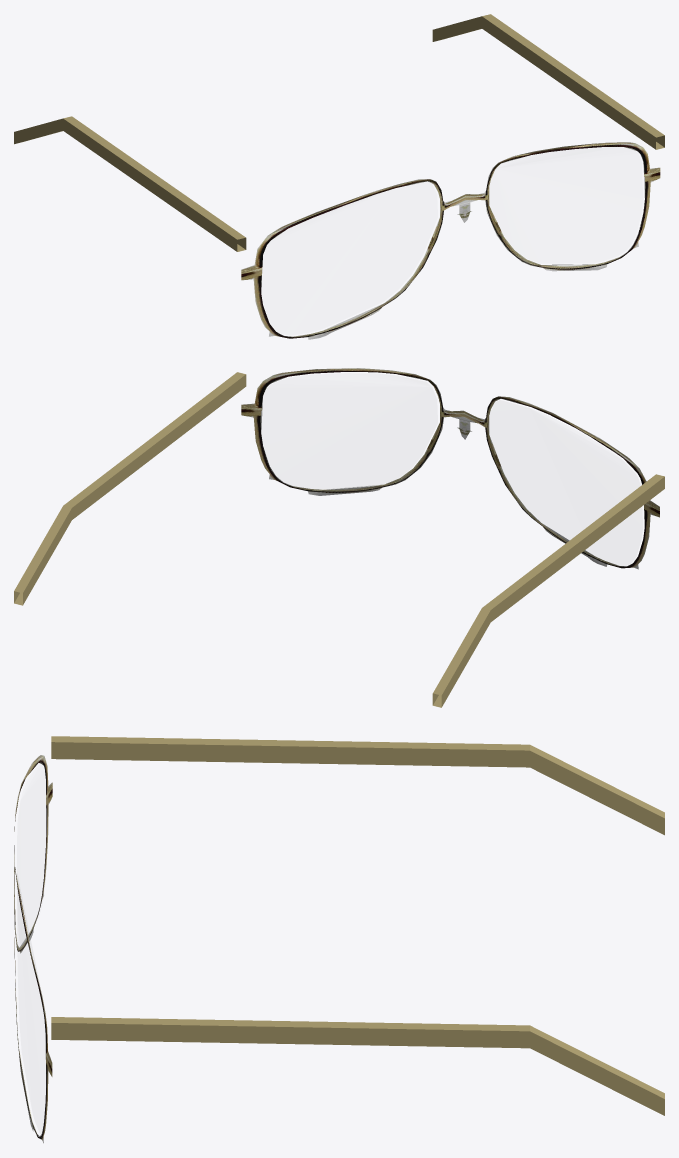
Rendered from gothamstyle-stainless-37_brown-gold.glb.
3 views of the same model, one above another, from view 1: azimuth 30°, elevation 25°; view 2: azimuth 150°, elevation 25°; view 3: azimuth 270°, elevation 25° (orthographic). The views are drawn at different scales.
Parts seen in each view (by area): view 1: frame_front, temple_viewer_left, temple_viewer_right; view 2: frame_front, temple_viewer_left, temple_viewer_right; view 3: temple_viewer_left, temple_viewer_right, frame_front.
Boxes of the visible parts, x1,y1,x2,y2 form: frame_front: [241, 142, 660, 339]; temple_viewer_left: [14, 116, 246, 251]; temple_viewer_right: [432, 14, 664, 149]; frame_front: [241, 368, 659, 569]; temple_viewer_left: [432, 474, 664, 707]; temple_viewer_right: [14, 372, 246, 605]; temple_viewer_left: [51, 736, 664, 835]; temple_viewer_right: [51, 1017, 664, 1115]; frame_front: [14, 755, 52, 1143].
Bounding box in the file's own units: 0.1448 × 0.0453 × 0.139.
3 materials, 2 textured.
